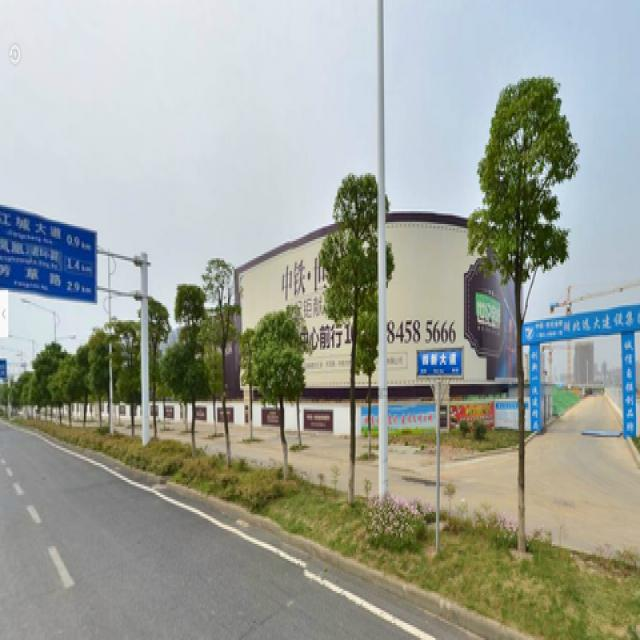cinn: (477, 92, 572, 535), (328, 182, 377, 486), (249, 320, 300, 467), (180, 303, 217, 450)
